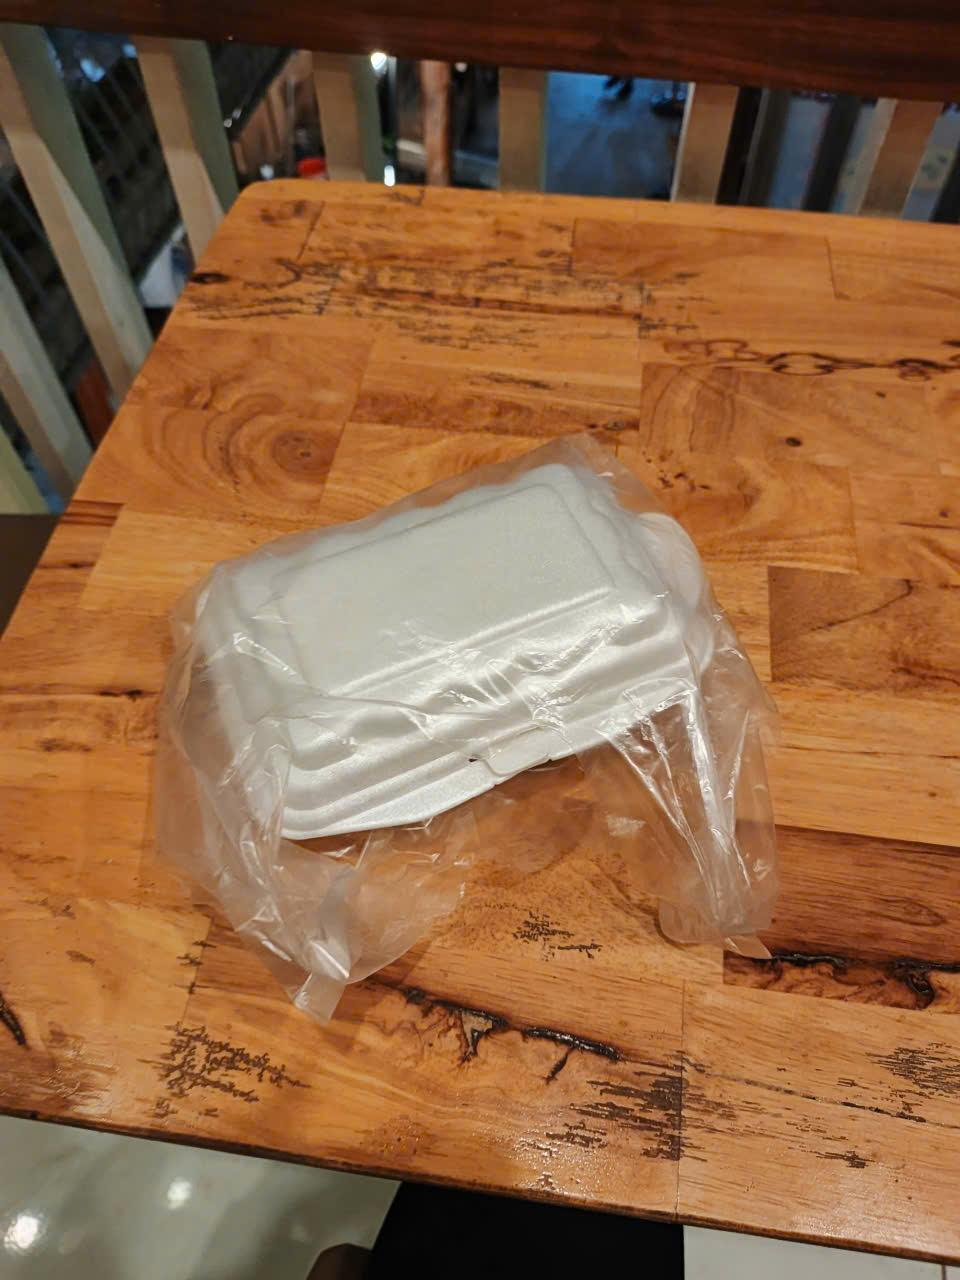Con lai: (179, 440, 764, 961)
